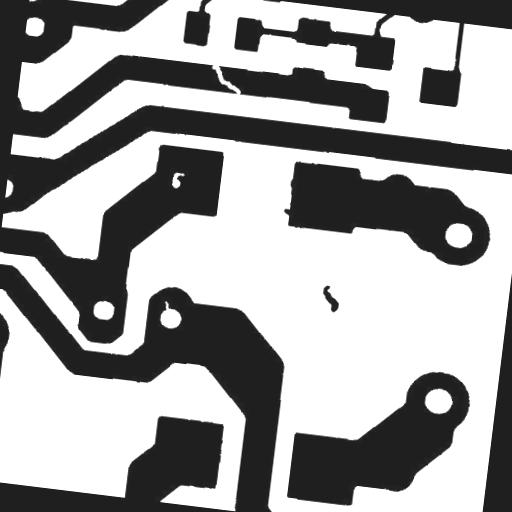copper: (312, 276, 349, 321)
mousebite: (156, 292, 180, 319)
open: (201, 56, 252, 102)
pin-hole: (162, 164, 192, 198)
spur: (274, 200, 304, 224)
